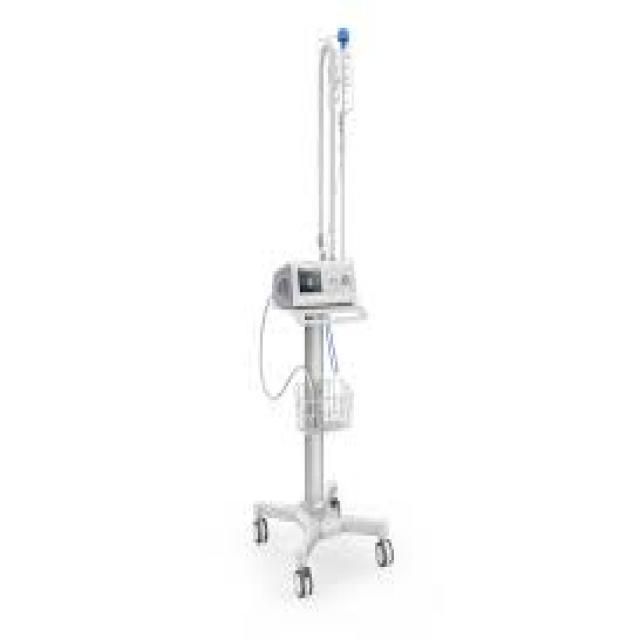ventilator: (198, 10, 467, 555)
